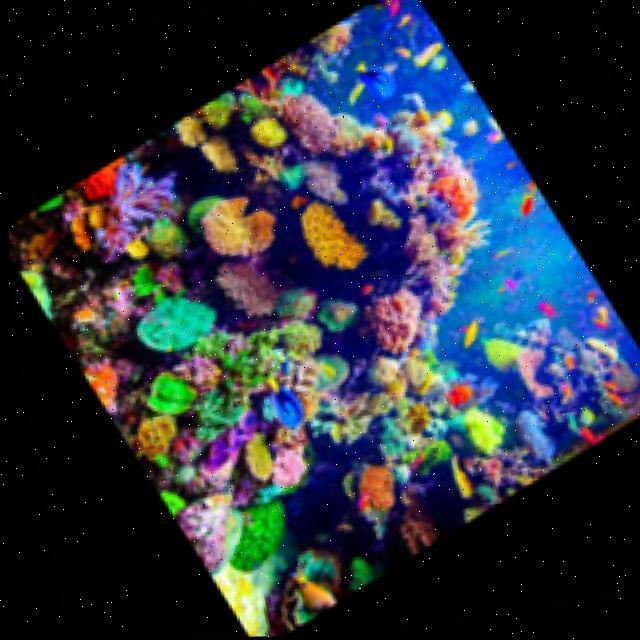Healthy Coral: (204, 59, 498, 372), (140, 251, 342, 463), (117, 168, 294, 295)
